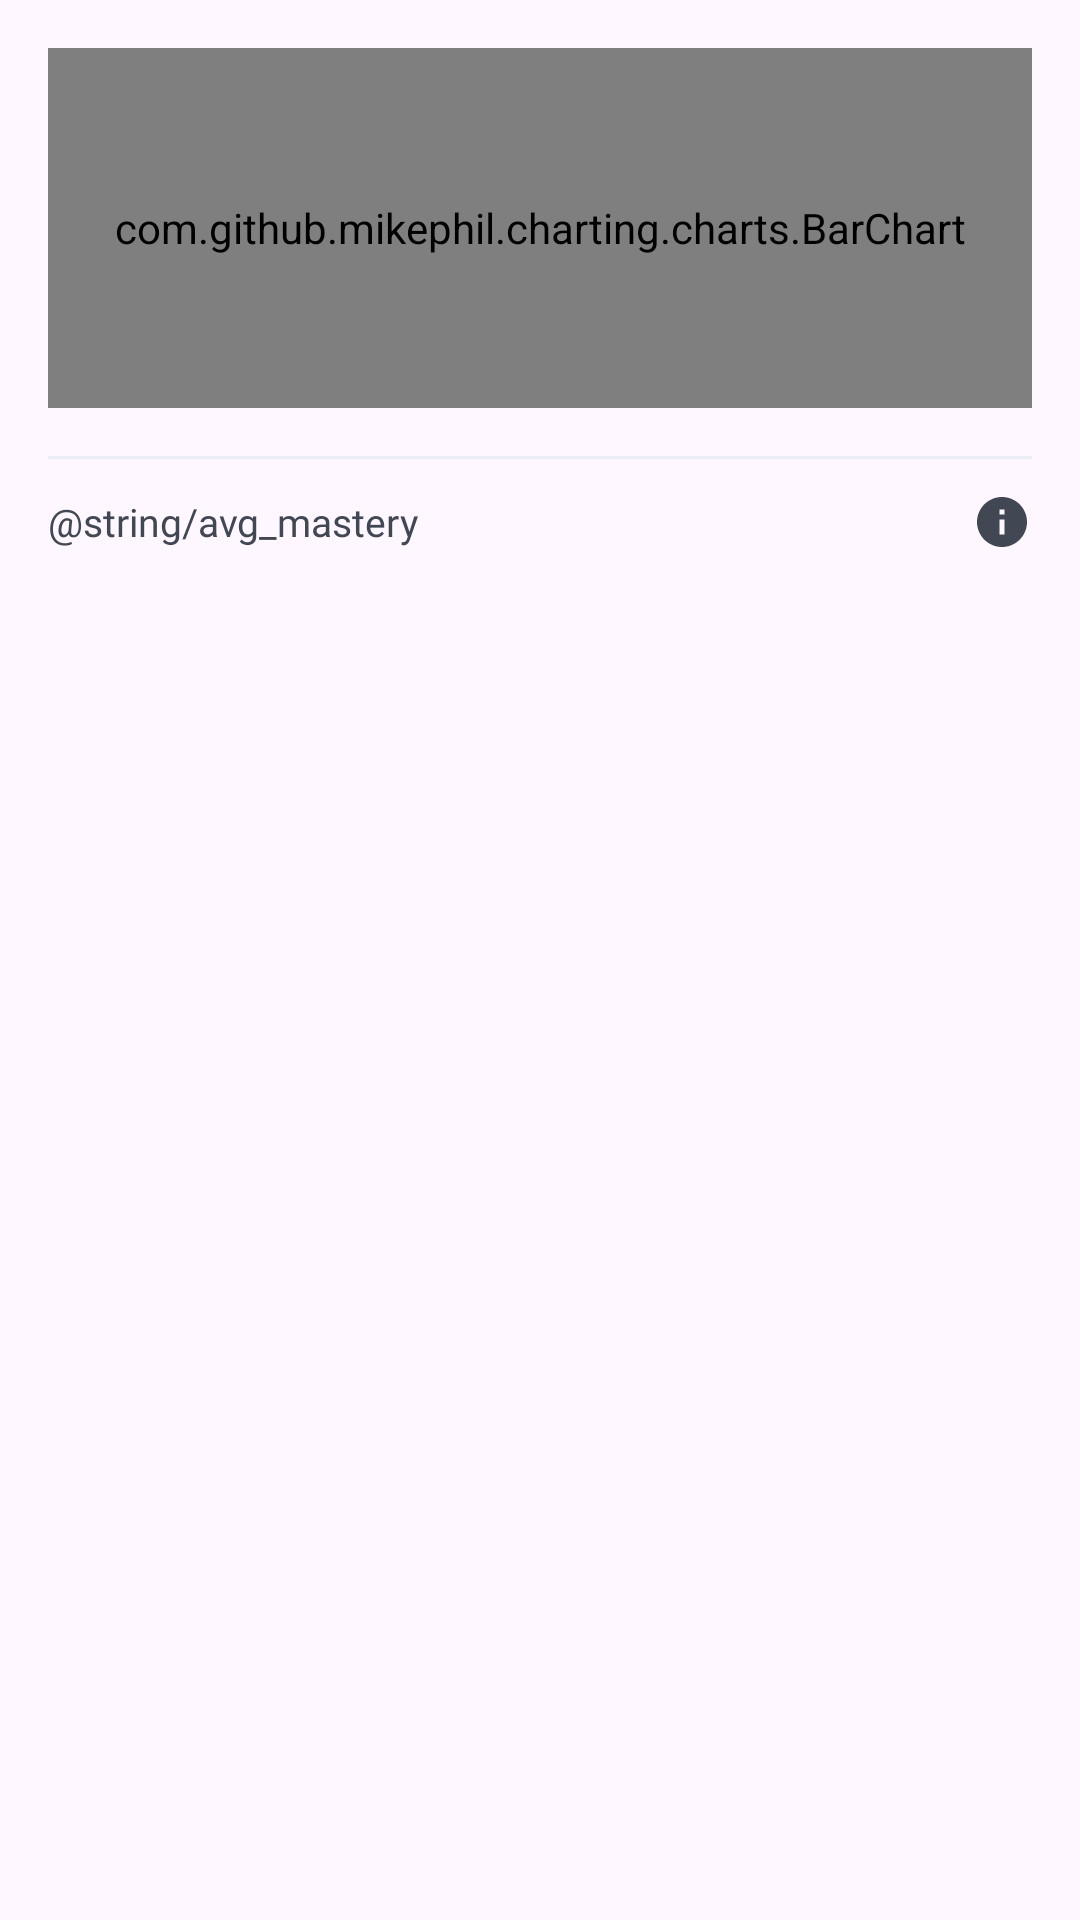

Named icons in this screenshot (1080px x 1920px) and their centers, point (x, y):
info: point (1002, 522)
